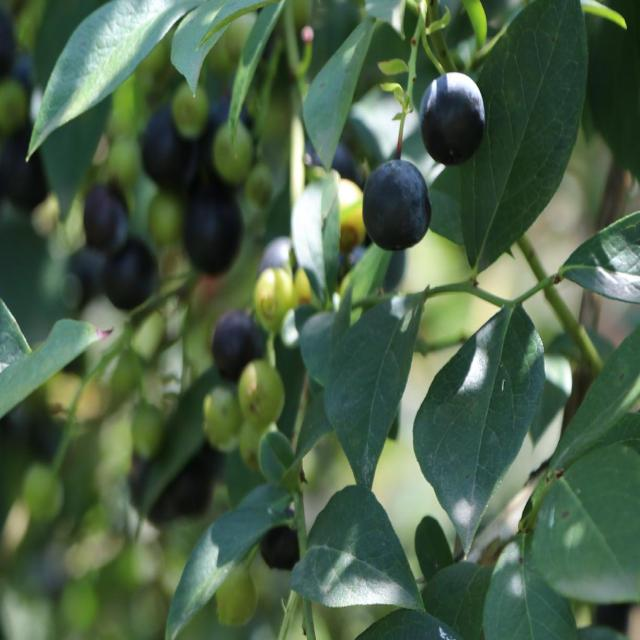blueberry: (419, 68, 484, 170), (361, 159, 433, 251), (181, 184, 244, 273), (143, 108, 193, 181), (103, 235, 158, 299), (213, 310, 261, 378), (262, 510, 308, 570), (84, 183, 128, 244)
blueberry-unripe: (212, 555, 261, 631), (238, 354, 288, 426), (196, 382, 242, 449), (20, 464, 67, 526), (253, 264, 297, 330), (209, 116, 255, 176), (144, 185, 183, 242), (127, 402, 166, 459), (169, 81, 207, 132), (0, 77, 30, 139), (239, 421, 276, 468)
